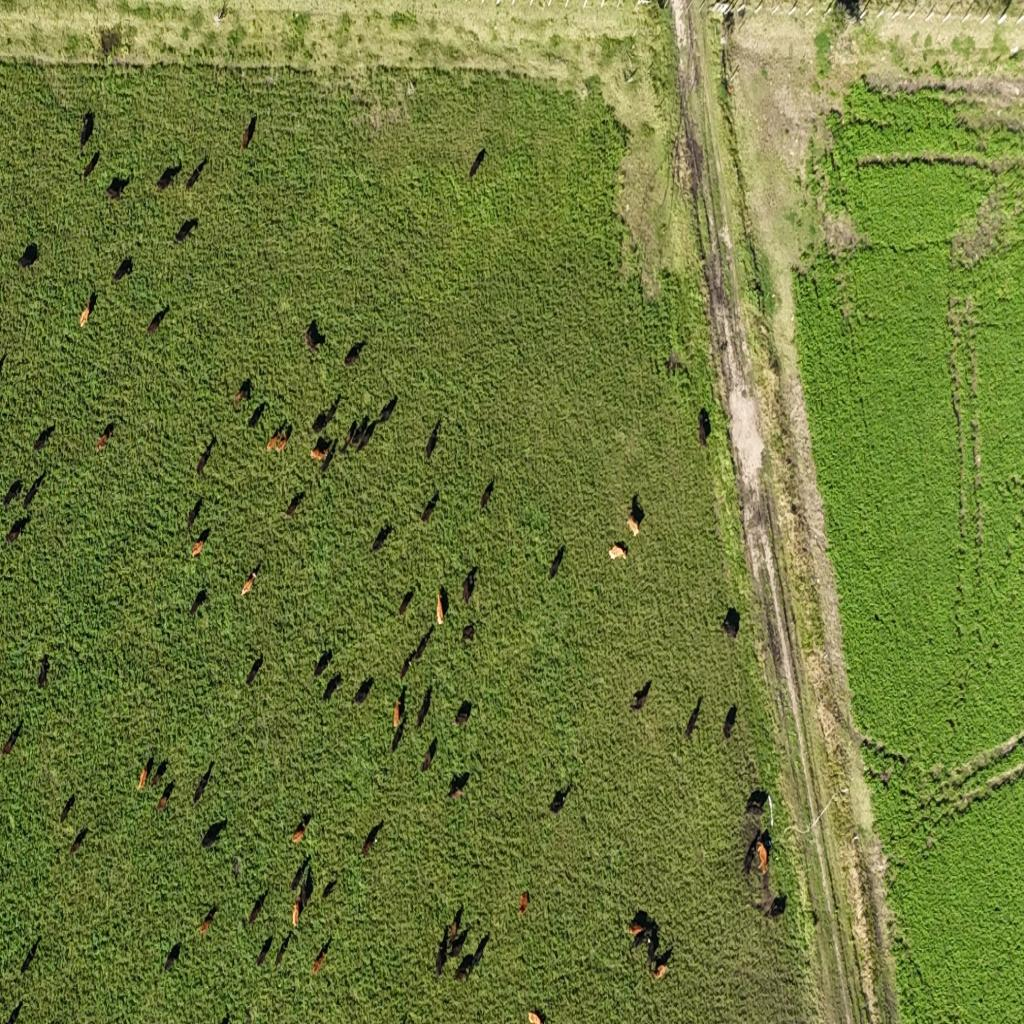cow: (744, 823, 772, 876), (462, 932, 488, 981), (629, 909, 658, 952), (312, 396, 340, 434), (293, 870, 311, 925), (192, 760, 214, 804), (548, 778, 573, 815), (200, 818, 228, 850), (196, 434, 216, 478), (144, 303, 170, 336), (360, 821, 384, 856), (274, 931, 296, 969), (290, 853, 310, 894), (354, 416, 376, 453), (156, 161, 182, 192), (185, 156, 208, 191), (23, 472, 44, 510), (630, 678, 653, 712), (416, 684, 432, 732), (3, 718, 23, 756), (21, 936, 41, 974), (310, 938, 330, 976), (684, 698, 702, 740), (339, 416, 360, 452), (248, 889, 268, 926), (744, 788, 770, 816), (721, 604, 741, 640), (644, 925, 660, 970), (148, 757, 169, 791), (425, 416, 441, 460), (304, 319, 326, 351), (651, 946, 673, 978), (5, 516, 30, 544), (420, 488, 440, 523), (105, 173, 130, 201), (446, 771, 469, 801), (2, 477, 24, 508), (370, 523, 392, 554), (377, 393, 397, 427), (242, 563, 261, 598), (352, 676, 374, 706), (412, 630, 432, 663), (447, 902, 463, 943), (93, 421, 114, 452), (174, 217, 198, 244), (80, 150, 100, 182), (462, 566, 478, 606), (198, 904, 218, 936), (16, 241, 38, 270), (33, 423, 55, 452), (435, 932, 449, 977), (291, 813, 311, 844), (344, 340, 366, 368), (284, 489, 306, 517), (479, 476, 495, 514), (322, 673, 342, 703), (448, 928, 468, 958), (312, 648, 332, 678), (111, 256, 134, 282), (245, 654, 263, 687), (548, 543, 564, 580), (241, 114, 257, 151), (138, 755, 154, 792), (187, 495, 203, 532), (247, 401, 267, 430), (79, 294, 96, 328), (320, 438, 337, 472), (256, 934, 273, 968), (157, 780, 175, 812), (420, 736, 436, 772), (191, 526, 209, 558), (80, 110, 94, 151), (234, 377, 253, 407), (188, 588, 207, 618), (628, 499, 644, 534), (164, 942, 182, 973), (723, 701, 737, 740), (70, 826, 88, 856), (454, 699, 472, 729), (454, 952, 472, 982), (59, 793, 75, 826), (696, 410, 710, 447), (391, 717, 405, 754), (469, 148, 486, 178), (276, 421, 292, 452), (665, 352, 684, 378), (398, 587, 414, 617), (770, 893, 788, 919), (436, 584, 448, 623), (608, 541, 628, 562), (37, 654, 49, 688), (7, 998, 24, 1022), (322, 877, 338, 900), (400, 652, 412, 681), (213, 3, 227, 27), (393, 698, 403, 730), (527, 1008, 545, 1024), (518, 891, 529, 917), (231, 856, 242, 882), (462, 623, 475, 643), (292, 900, 301, 928), (0, 350, 8, 378), (810, 906, 820, 928), (406, 78, 416, 97), (220, 1011, 230, 1023)
